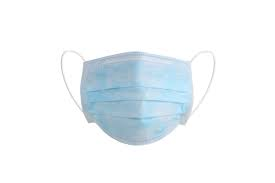mask: (78, 49, 197, 140)
